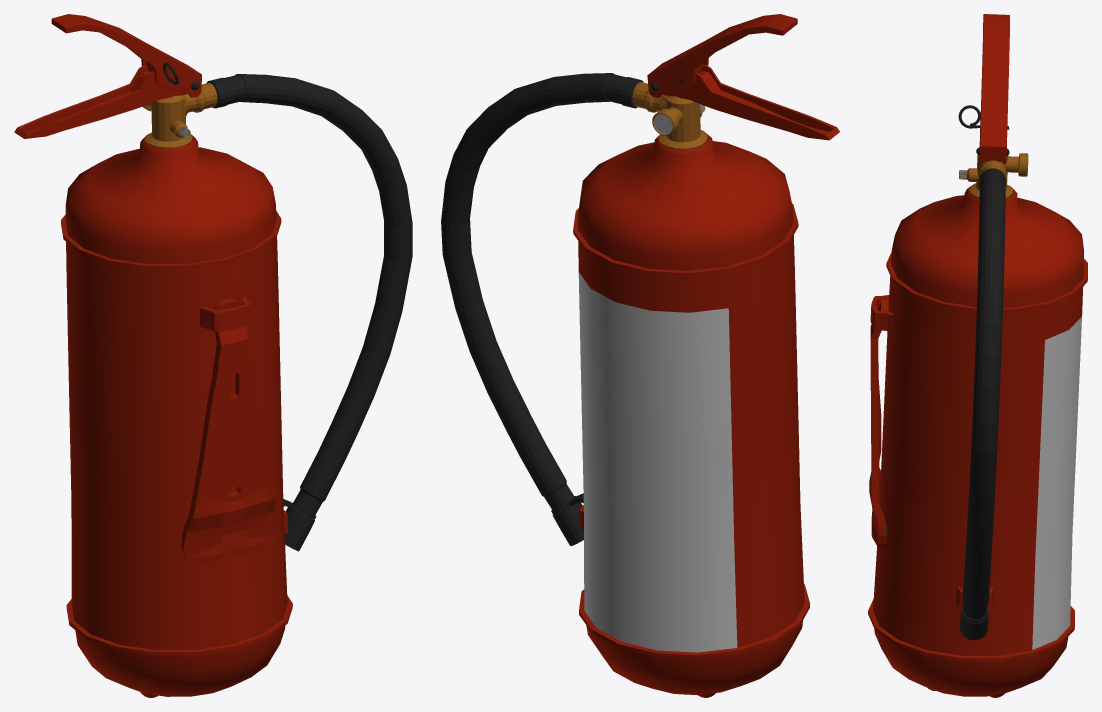
File: fireextinguisher.glb
3 renders of one model, left to right at view 1: azimuth 30°, elevation 25°; view 2: azimuth 150°, elevation 25°; view 3: azimuth 270°, elevation 25°, orthographic. The views are drawn at different scales.
Parts seen in each view (by area): view 1: Fire Extinguisher, Fire Extinguisher_11, Fire Extinguisher_8, Fire Extinguisher_7, Fire Extinguisher_3; view 2: Fire Extinguisher, Fire Extinguisher_8, Fire Extinguisher_7, Fire Extinguisher_2; view 3: Fire Extinguisher, Fire Extinguisher_7, Fire Extinguisher_11, Fire Extinguisher_3, Fire Extinguisher_2.
Part boxes in pixels (x1,y1,x2,y2): Fire Extinguisher: (61,74,412,696); Fire Extinguisher_11: (181,298,276,562); Fire Extinguisher_8: (14,65,187,138); Fire Extinguisher_7: (51,14,201,97); Fire Extinguisher_3: (199,296,252,331); Fire Extinguisher: (441,73,809,695); Fire Extinguisher_8: (663,64,839,140); Fire Extinguisher_7: (647,14,797,98); Fire Extinguisher_2: (652,107,682,135); Fire Extinguisher: (868,155,1087,696); Fire Extinguisher_7: (979,14,1009,163); Fire Extinguisher_11: (869,298,888,546); Fire Extinguisher_3: (870,295,893,332); Fire Extinguisher_2: (1006,153,1028,176).
Size of the model in its own units: 37.08 by 61.61 by 19.86.
